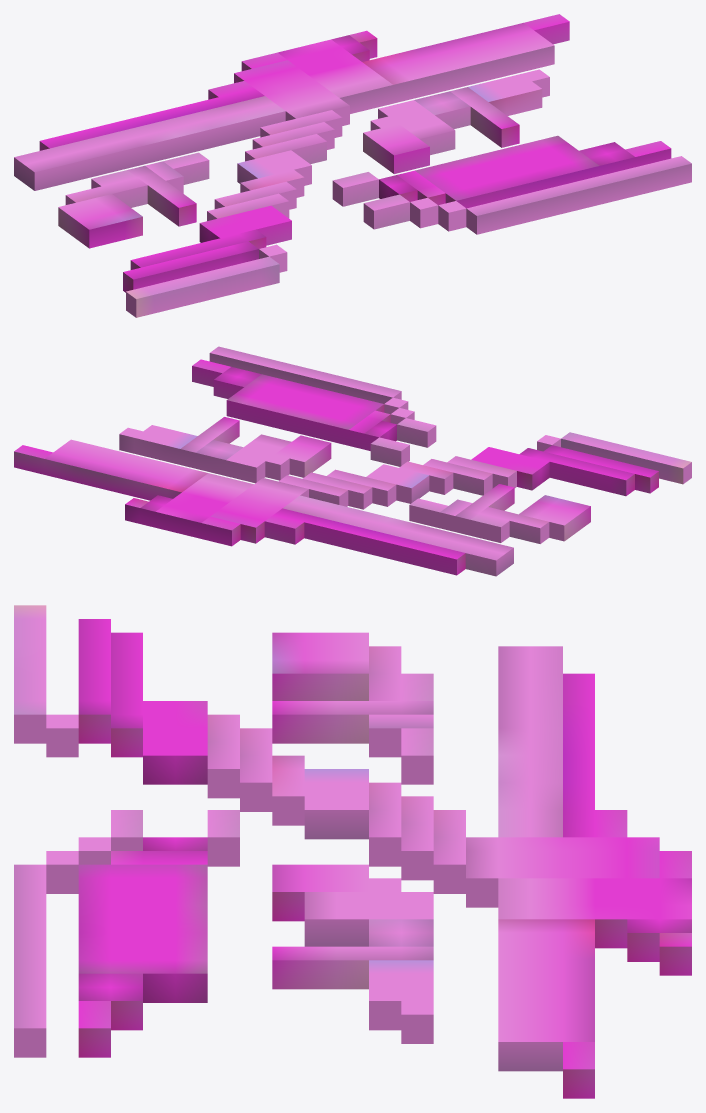
Rendered from BillboardModule_ChineseSymbol_F_00.fbx.
The picture shows the model from 3 angles, top to bottom: view 1: azimuth 30°, elevation 25°; view 2: azimuth 150°, elevation 25°; view 3: azimuth 270°, elevation 25°; orthographic projection. The views are drawn at different scales.
Parts seen in each view (by area): view 1: BillboardModule_ChineseSymbol_F_00; view 2: BillboardModule_ChineseSymbol_F_00; view 3: BillboardModule_ChineseSymbol_F_00.
Boxes of the visible parts, x1,y1,x2,y2 form: BillboardModule_ChineseSymbol_F_00: (14, 14, 691, 317); BillboardModule_ChineseSymbol_F_00: (14, 346, 691, 576); BillboardModule_ChineseSymbol_F_00: (14, 605, 691, 1098).
Bounding box in the file's own units: 170 × 5 × 105.
